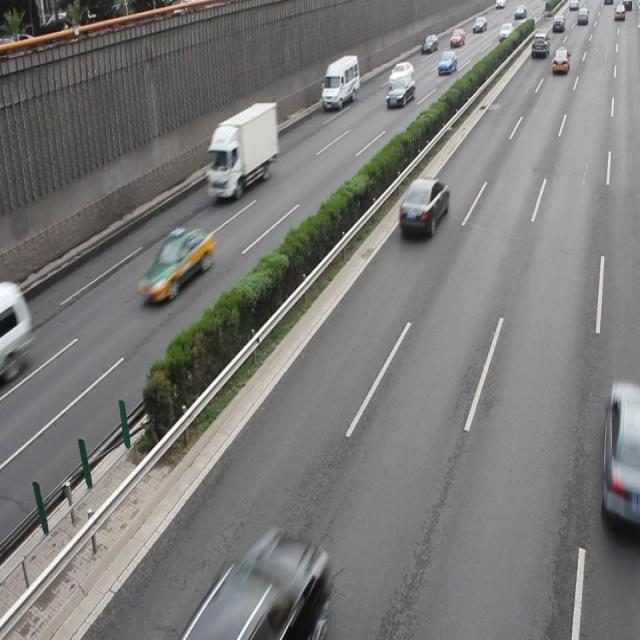bus: (205, 101, 277, 198)
car: (207, 530, 325, 640), (136, 226, 214, 304), (602, 381, 640, 531), (398, 175, 448, 239)
